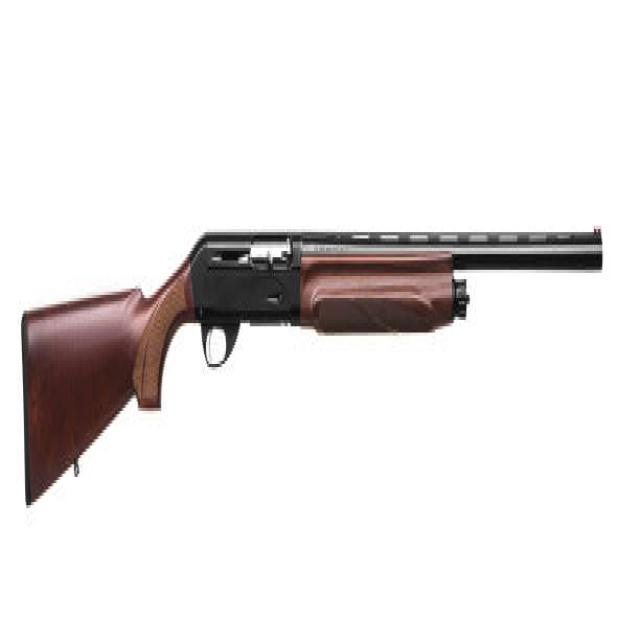rifle: (19, 202, 610, 520)
